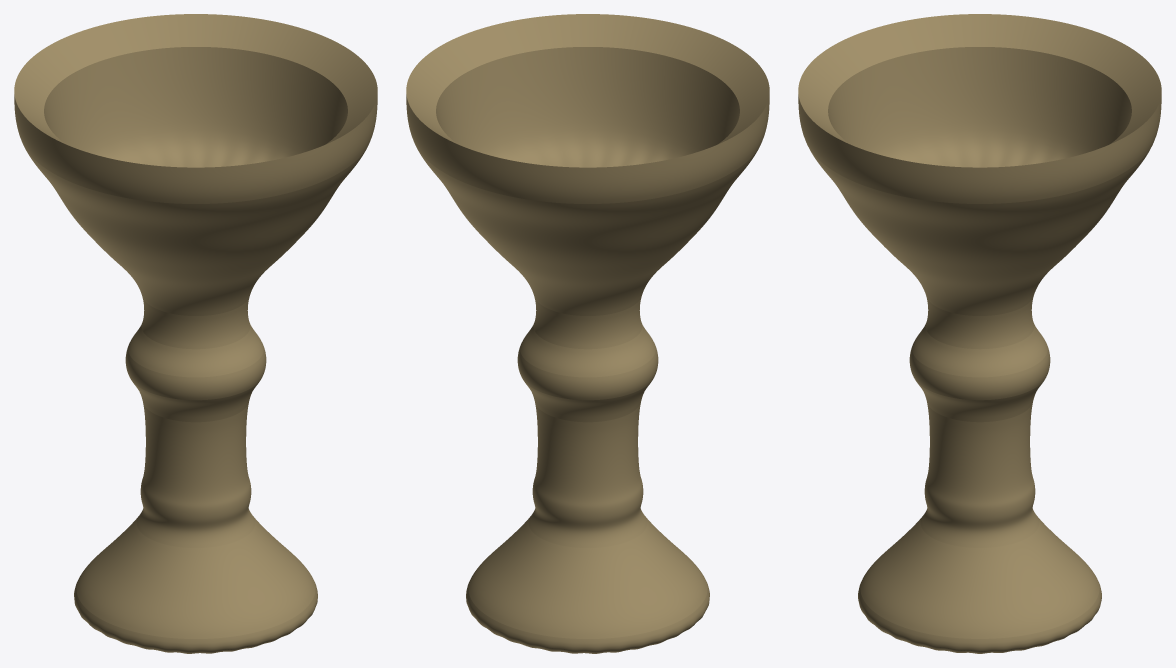
File: Goblet.fbx
The picture shows the model from 3 angles, left to right: view 1: azimuth 30°, elevation 25°; view 2: azimuth 150°, elevation 25°; view 3: azimuth 270°, elevation 25°; orthographic projection.
Visible parts, largest first — view 1: Circle; view 2: Circle; view 3: Circle.
Boxes of the visible parts, box(x1,y1,x2,y2) form: Circle: box(14, 14, 377, 653); Circle: box(406, 14, 769, 653); Circle: box(798, 14, 1161, 653).
Bounding box in the file's own units: 20.09 × 31.98 × 20.09.
